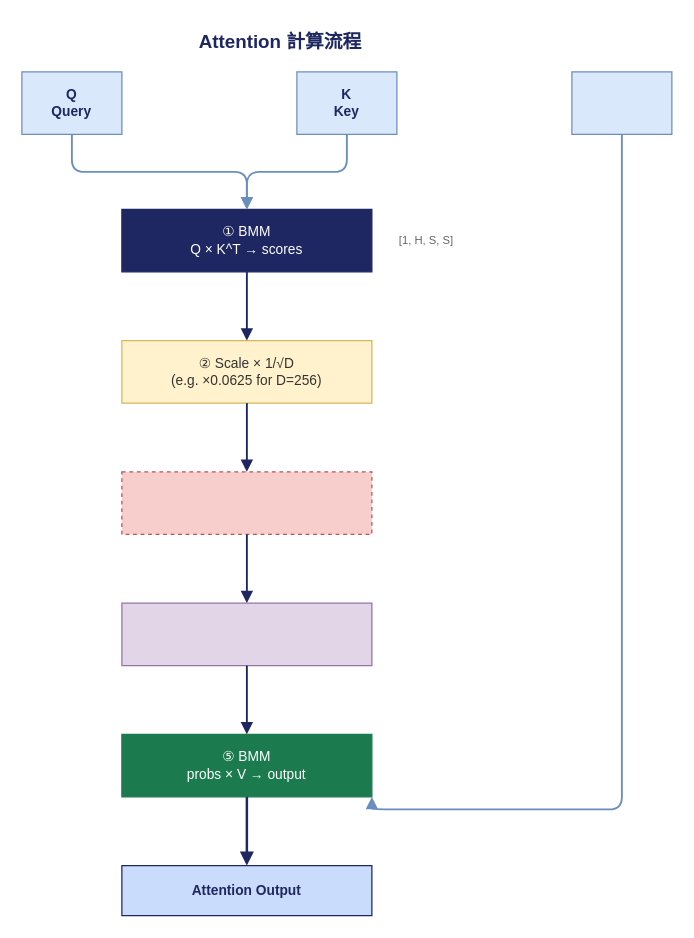
This 694x938 diagram has some shape labels left out. Here are the shapes that lost their labels. From the top down, the box of each, then its label:
(571, 71, 672, 134): V Value
(121, 471, 372, 534): ③ Mask（選用） 不該看的位置設為 −∞
(121, 602, 372, 666): ④ Softmax → probs（機率，加總=1）
